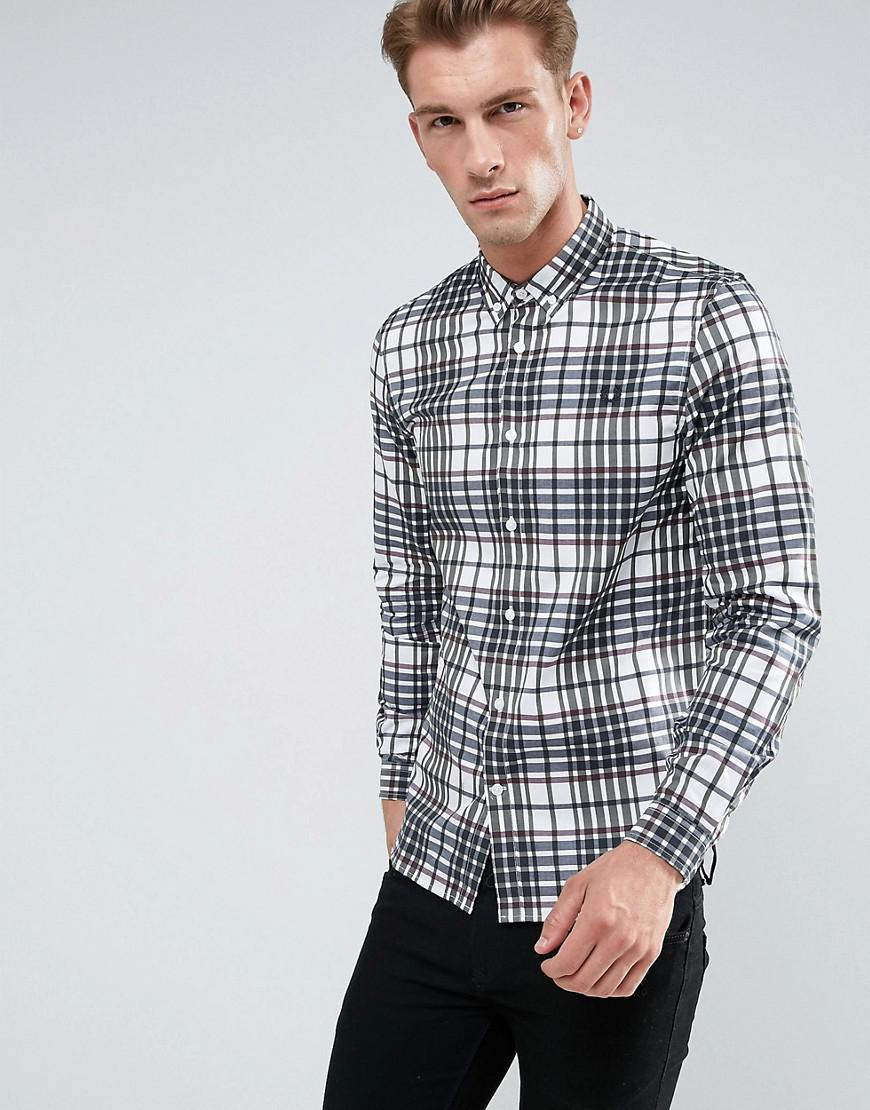teeshirt: (344, 242, 846, 947)
